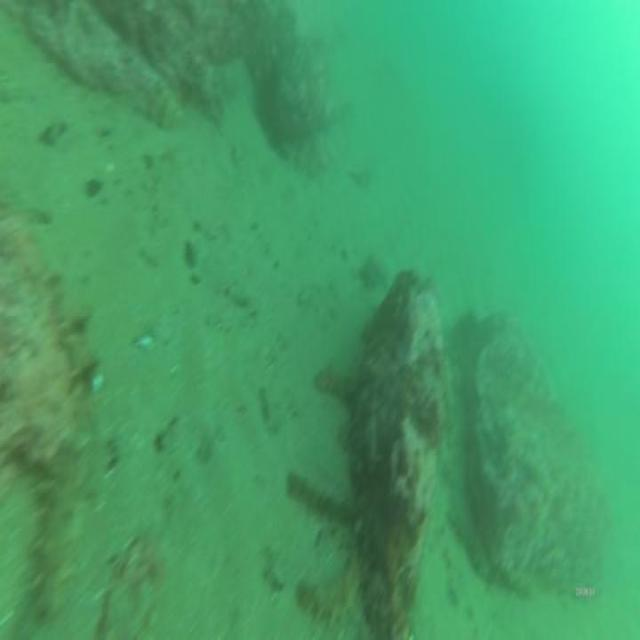holothurian: (30, 439, 81, 621), (59, 289, 103, 498), (297, 545, 364, 632)
starfish: (360, 250, 389, 294)
